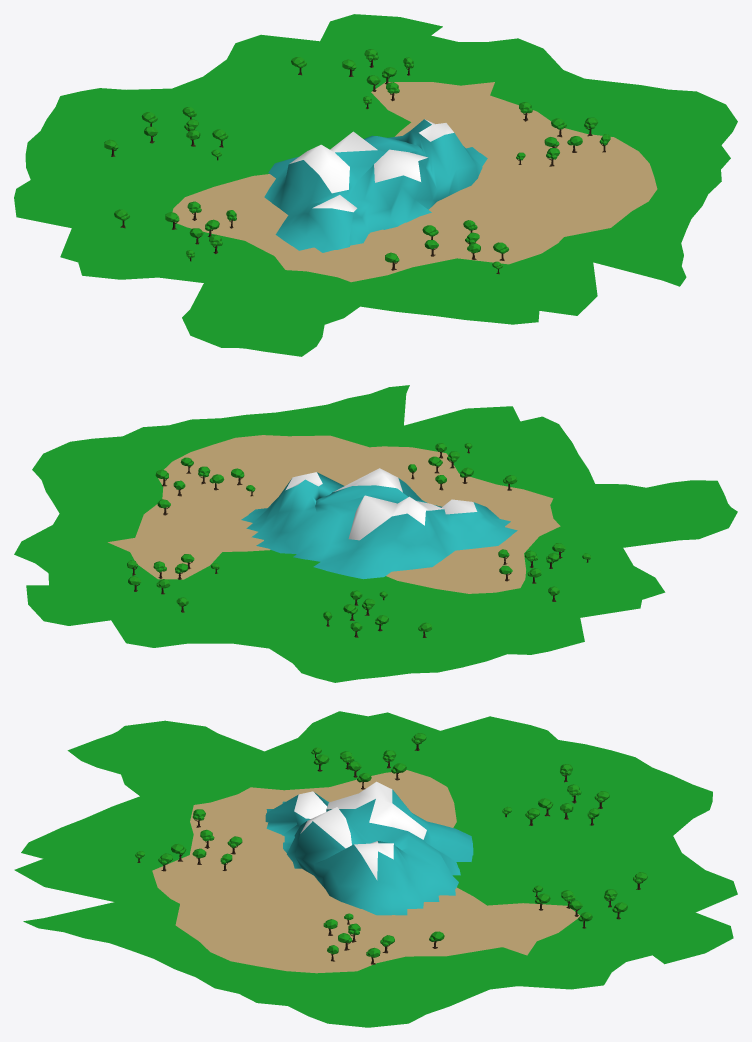
File: islandGameExport.fbx
The picture shows the model from 3 angles, top to bottom: view 1: azimuth 30°, elevation 25°; view 2: azimuth 150°, elevation 25°; view 3: azimuth 270°, elevation 25°; orthographic projection. The views are drawn at different scales.
Parts seen in each view (by area): view 1: chão, chãoAreia, montanha, neve; view 2: chão, chãoAreia, montanha, neve; view 3: chão, chãoAreia, montanha, neve.
Boxes of the visible parts, x1,y1,x2,y2 form: chão: [14, 14, 737, 356]; chãoAreia: [172, 82, 657, 282]; montanha: [264, 119, 487, 252]; neve: [289, 119, 453, 212]; chão: [14, 385, 737, 682]; chãoAreia: [108, 435, 560, 593]; montanha: [241, 472, 517, 579]; neve: [285, 468, 477, 540]; chão: [14, 711, 737, 1027]; chãoAreia: [152, 770, 579, 973]; montanha: [265, 789, 473, 915]; neve: [294, 781, 426, 880].
Size of the model in its own units: 247700 by 20104 by 239361.
